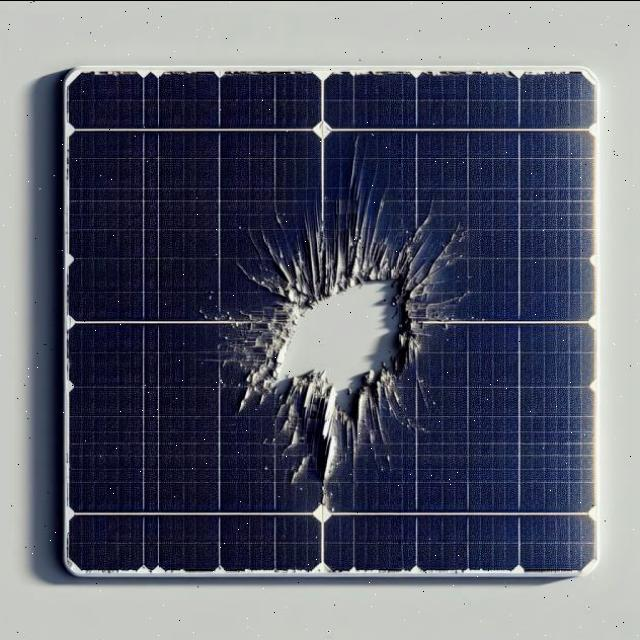Anomaly Solar Panel: (65, 65, 600, 571)
Structural Damage: (155, 109, 523, 525)
